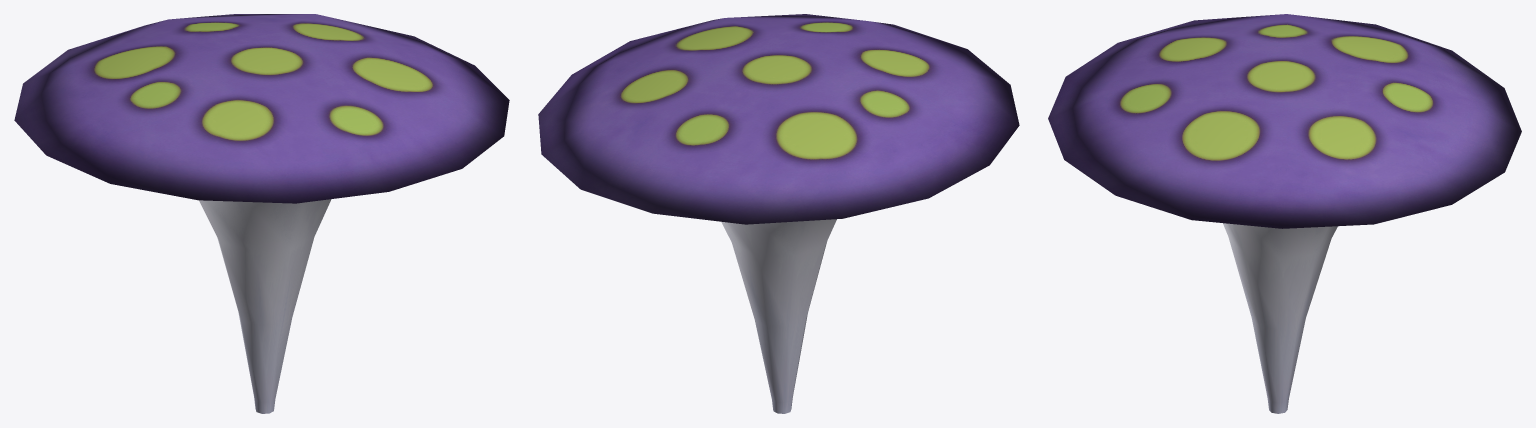
File: Mushroom_Straight2_Purple.fbx
The picture shows the model from 3 angles, left to right: view 1: azimuth 30°, elevation 25°; view 2: azimuth 150°, elevation 25°; view 3: azimuth 270°, elevation 25°; orthographic projection. The views are drawn at different scales.
Visible parts, largest first — view 1: Mesh; view 2: Mesh; view 3: Mesh.
Boxes of the visible parts, x1,y1,x2,y2 form: Mesh: (14,14,509,413); Mesh: (538,14,1019,413); Mesh: (1048,14,1521,413).
Bounding box in the file's own units: 227 × 177 × 225.
